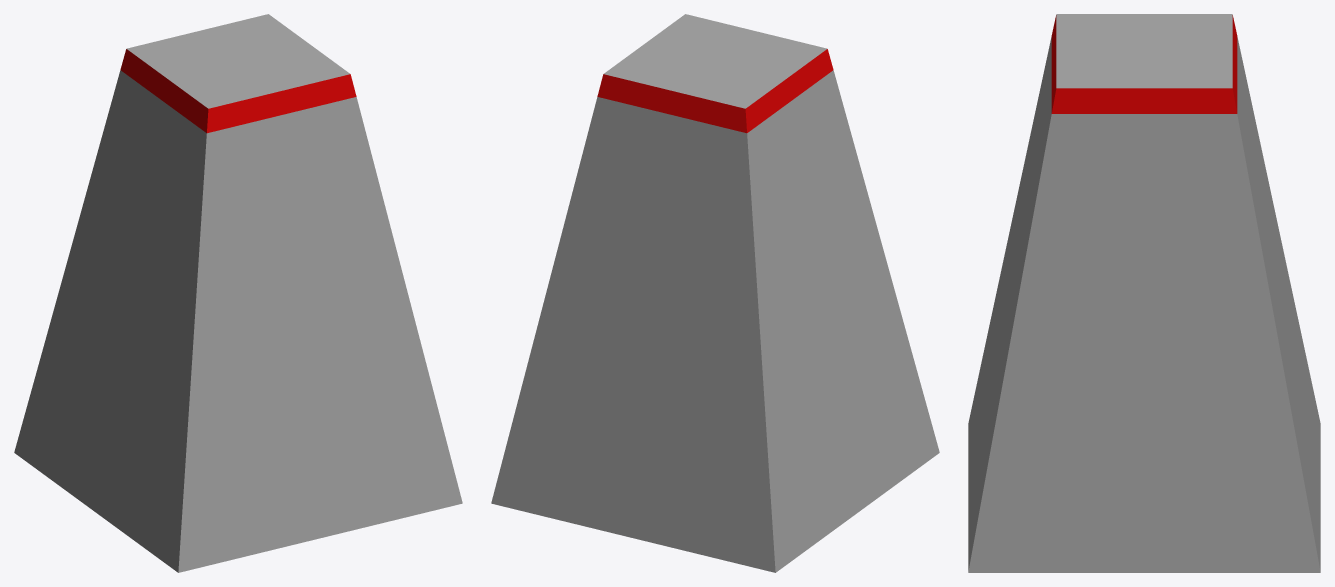
Rendered from Ppilier 2.1.fbx.
3 views of the same model, side by side, from view 1: azimuth 30°, elevation 25°; view 2: azimuth 150°, elevation 25°; view 3: azimuth 270°, elevation 25° (orthographic). The views are drawn at different scales.
Visible parts, largest first — view 1: Ppilier_2_1; view 2: Ppilier_2_1; view 3: Ppilier_2_1.
Boxes of the visible parts, left/top/right/bottom form: Ppilier_2_1: left=14, top=14, right=462, bottom=572; Ppilier_2_1: left=491, top=14, right=939, bottom=572; Ppilier_2_1: left=968, top=14, right=1320, bottom=572.
Size of the model in its own units: 200 by 280 by 200.
